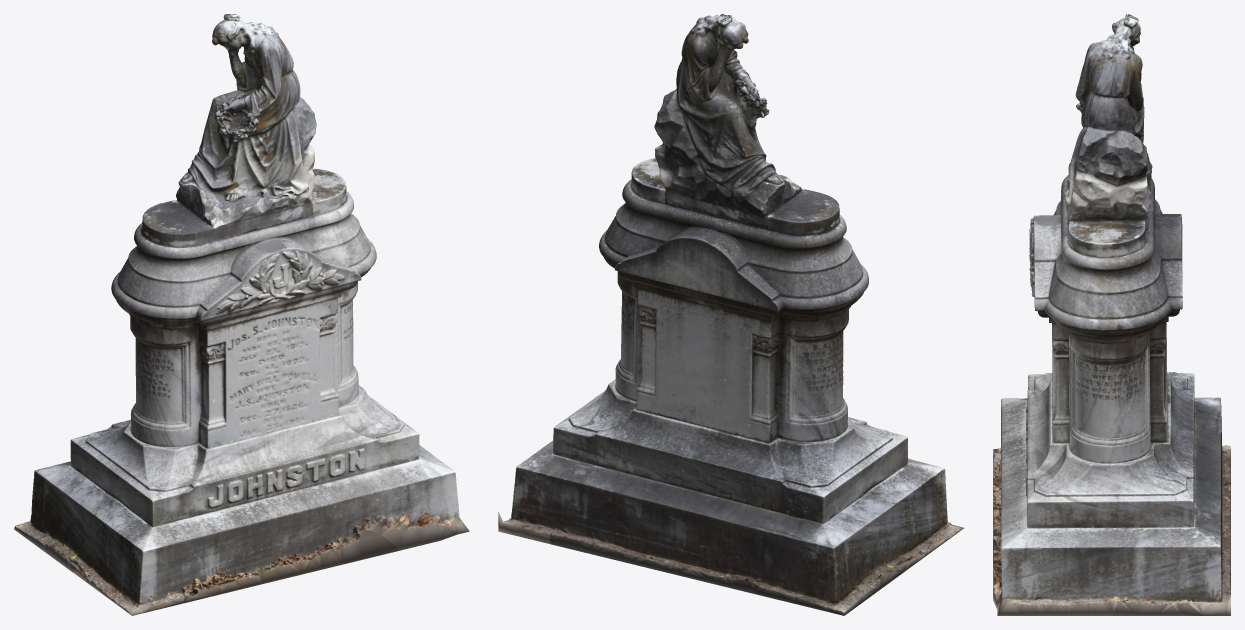
The model's file is cemetery_statuary_-_johnston.glb.
3 renders of one model, left to right at view 1: azimuth 30°, elevation 25°; view 2: azimuth 150°, elevation 25°; view 3: azimuth 270°, elevation 25°, orthographic.
Visible parts, largest first — view 1: default.001_0 (×5); view 2: default.001_0 (×5); view 3: default.001_0 (×5).
Part boxes in pixels (left/top/right/bottom): default.001_0 (×5): left=14, top=14, right=469, bottom=615; default.001_0 (×5): left=498, top=14, right=963, bottom=615; default.001_0 (×5): left=993, top=14, right=1230, bottom=615.
Size of the model in its own units: 2.05 by 2.95 by 1.24.
1 material, 1 textured.
